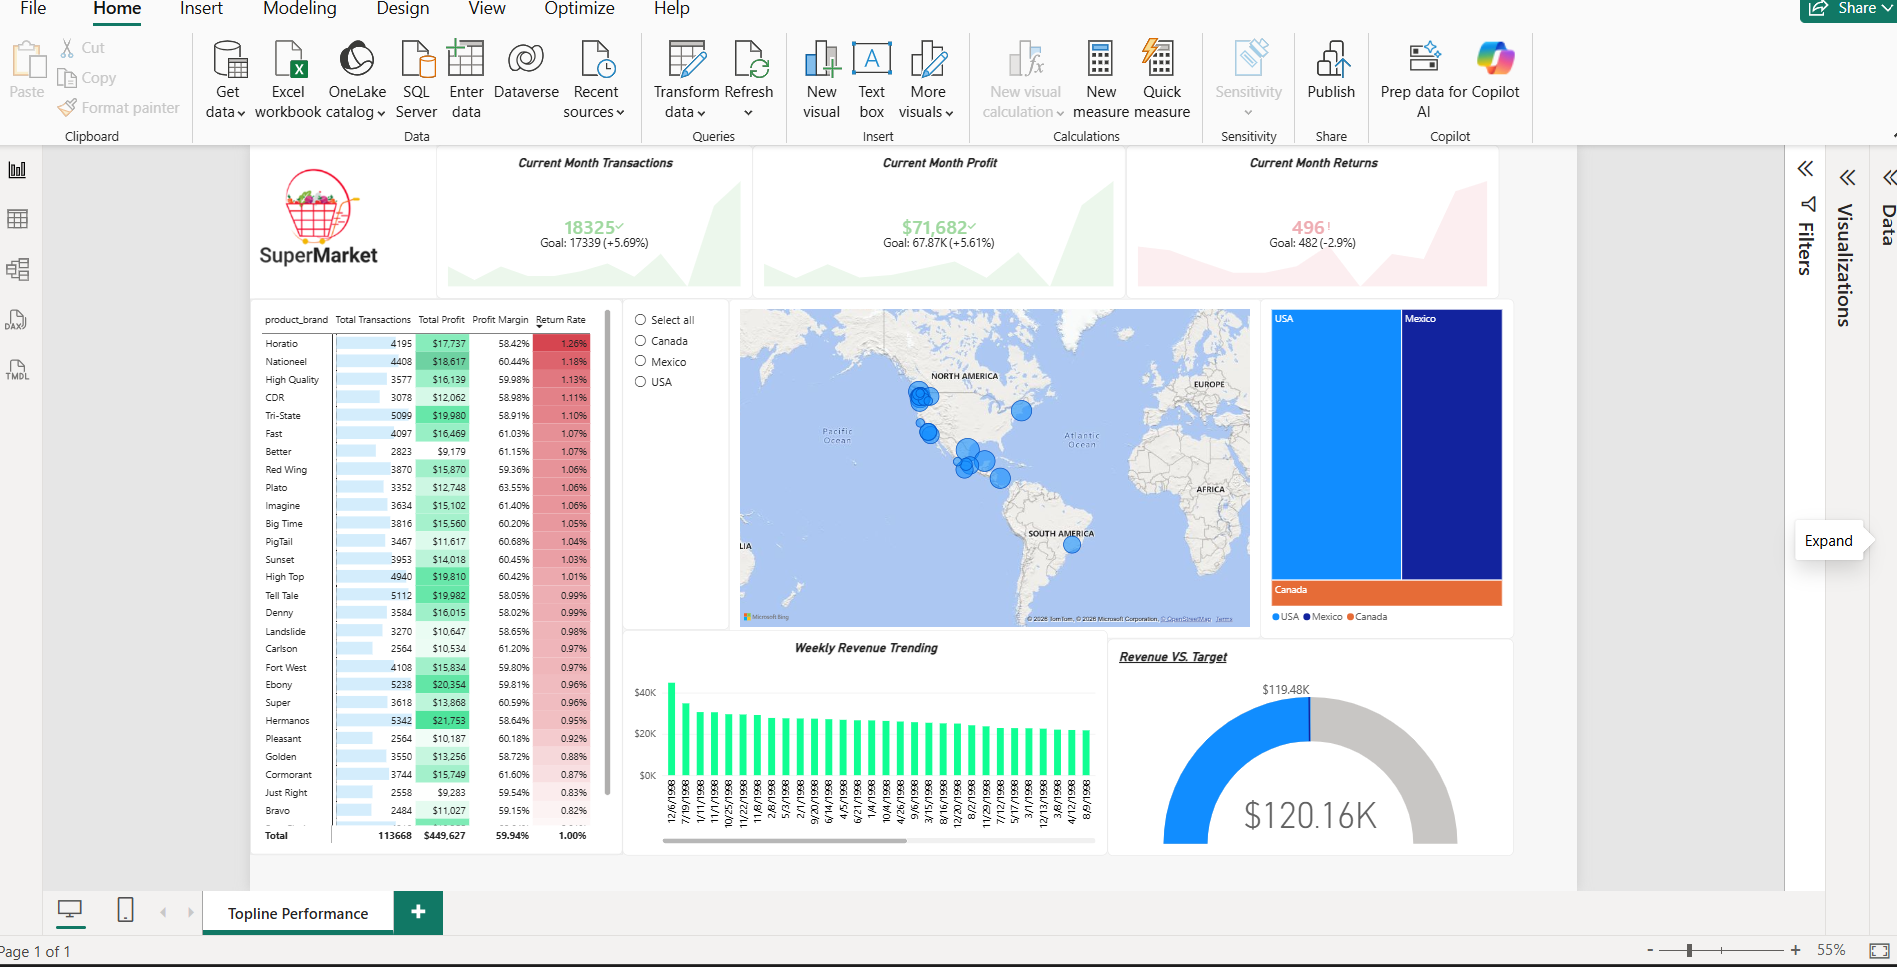

What the dashboard file says about the page in this screenshot:
{"tool":"powerbi","page":{"name":"Topline Performance","canvas":[1920,1080],"ordinal":0},"visuals":[{"type":"image","box":[0,0,269.6,221.4],"z":0},{"type":"pivotTable","fields":{"Rows":["Products.product_brand"],"Values":["(measures).Total Transactions","(measures).Total Profit","(measures).Profit Margin","(measures).Return Rate"]},"box":[0,222.6,539.3,805.3],"z":1},{"type":"kpi","title":"Current Month Transactions","fields":{"Goal":["(measures).Last Month Transactions"],"Indicator":["(measures).Total Transactions"],"TrendLine":["Calendar.Start of Month"]},"box":[270,0,458,222],"z":2},{"type":"kpi","title":"Current Month Profit","fields":{"Goal":["(measures).Last Month Profit"],"Indicator":["(measures).Total Profit"],"TrendLine":["Calendar.Start of Month"]},"box":[728,0,540,222],"z":3},{"type":"kpi","title":" Current Month Returns","fields":{"Goal":["(measures).Last Month Returns"],"Indicator":["(measures).Total Returns"],"TrendLine":["Calendar.Start of Month"]},"box":[1268,0,540,222],"z":4},{"type":"map","fields":{"Category":["Stores.store_city"],"Size":["(measures).Total Transactions"]},"box":[694,222,772,492],"z":5},{"type":"listSlicer","fields":{"Values":["Stores.store_country"]},"box":[539.3,222.3,154.4,479.6],"z":6},{"type":"treemap","fields":{"Group":["Stores.store_country","Stores.store_state","Stores.store_city"],"Values":["(measures).Total Transactions"]},"box":[1462,222,368,492],"z":7},{"type":"lineClusteredColumnComboChart","title":"Weekly Revenue Trending","fields":{"Category":["Calendar.Start of weeek"],"Y":["(measures).Total Revenue"]},"box":[540,702,702,326],"z":8},{"type":"gauge","title":"Revenue VS. Target","fields":{"TargetValue":["(measures).Revenue Target"],"Y":["(measures).Total Revenue"]},"box":[1242,714,588,314],"z":9}]}

Visuals, with their boxes on the page's 1920x1080 design canvas (x1, y1, x2, y2). These are canvas units, not pixel positions in the 1897x967 screenshot, which may show the page scaled, cropped or inside an application window:
image: (0,0,270,221)
pivotTable - Products.product_brand x (measures).Total Transactions: (0,223,539,1028)
"Current Month Transactions" kpi: (270,0,728,222)
"Current Month Profit" kpi: (728,0,1268,222)
" Current Month Returns" kpi: (1268,0,1808,222)
map - Stores.store_city x (measures).Total Transactions: (694,222,1466,714)
listSlicer - Stores.store_country: (539,222,694,702)
treemap - Stores.store_country x Stores.store_state: (1462,222,1830,714)
"Weekly Revenue Trending" lineClusteredColumnComboChart: (540,702,1242,1028)
"Revenue VS. Target" gauge: (1242,714,1830,1028)
